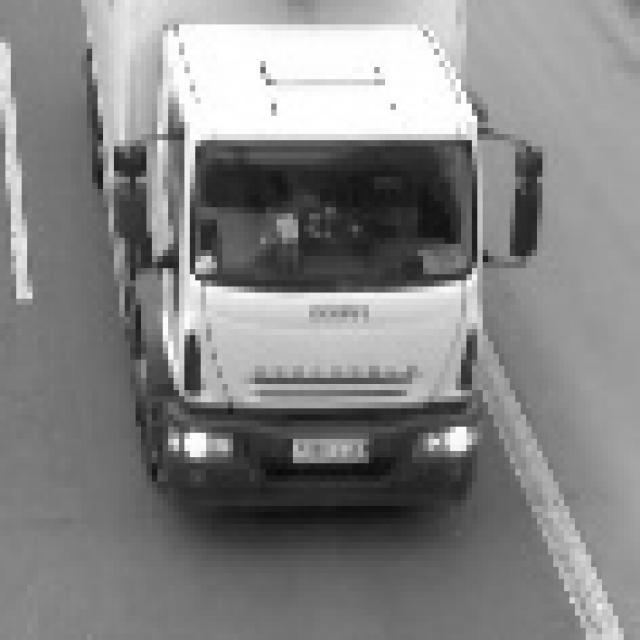truck: (95, 4, 538, 513)
